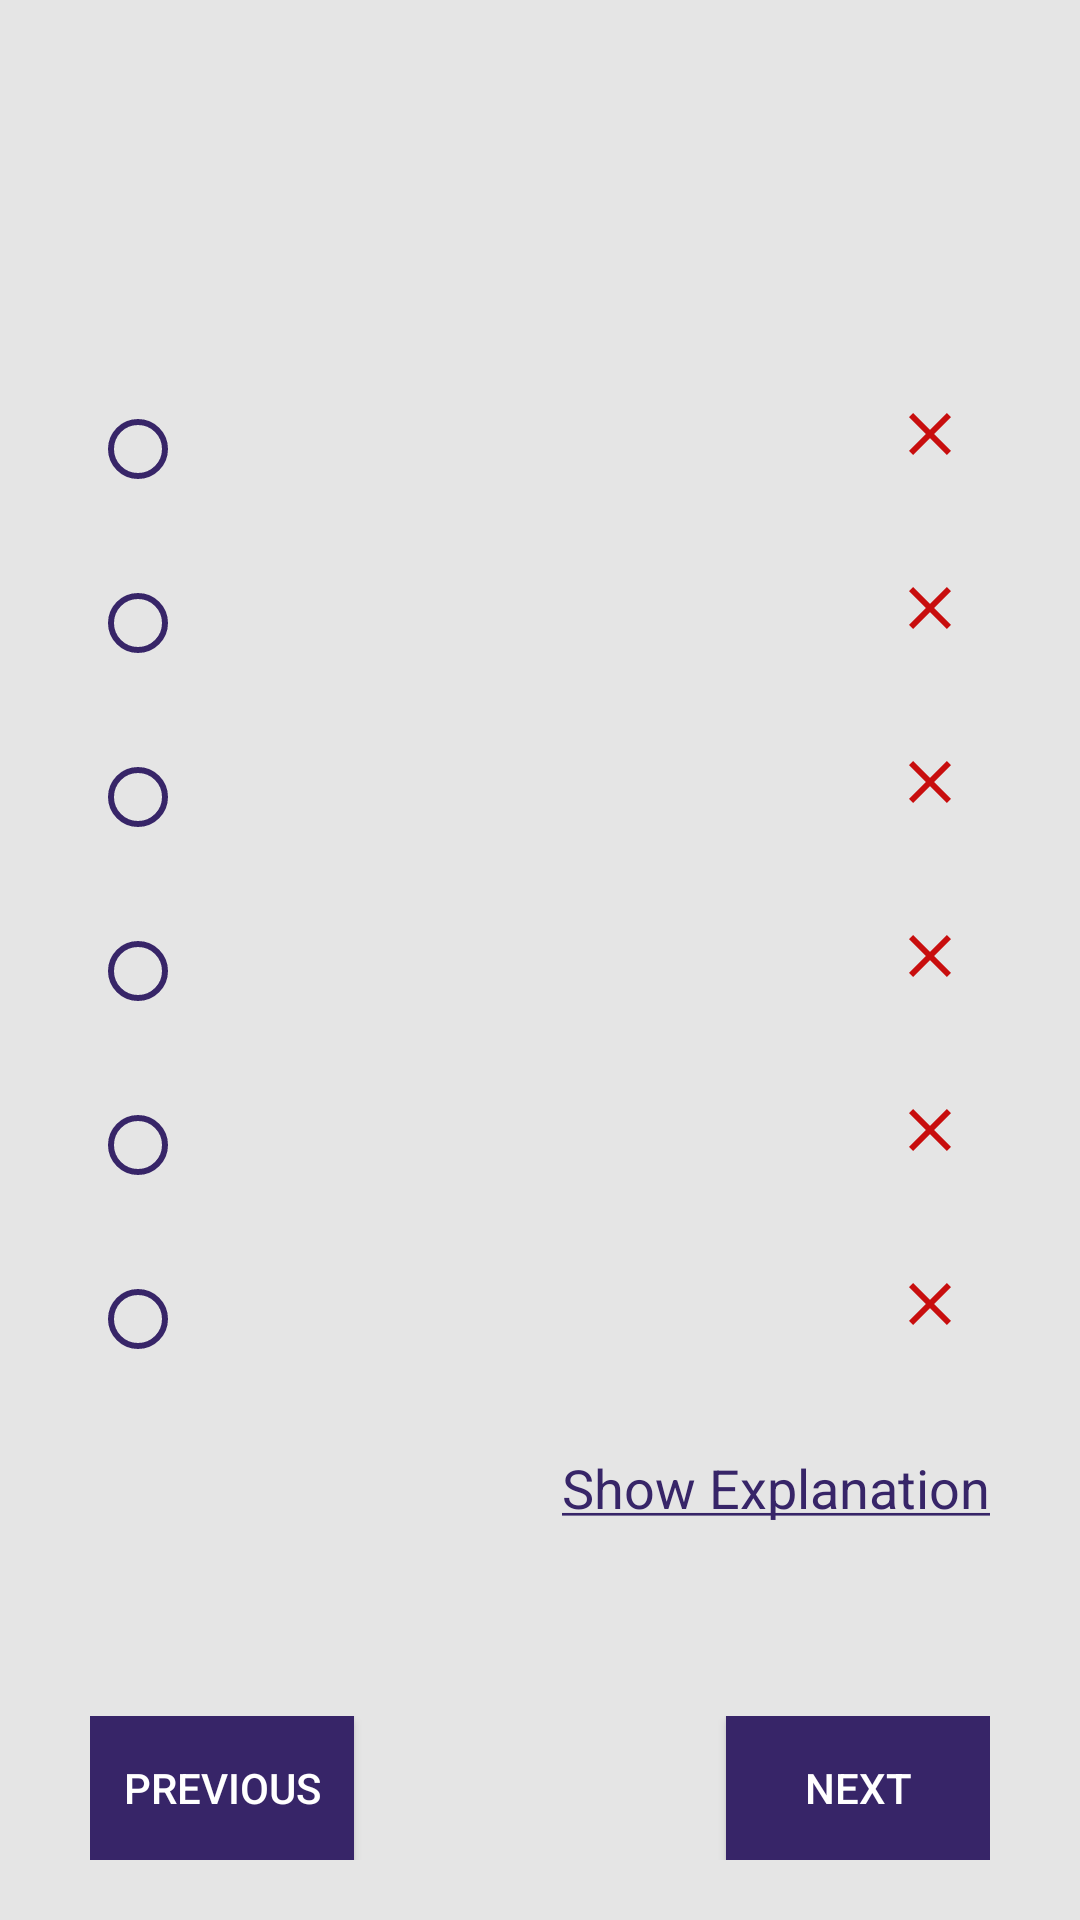

Icon bounding boxes for this 1080x1920 phone screenshot, format (x1, y1, x2, y2):
close: (909, 413, 951, 455), (909, 587, 951, 629), (909, 761, 951, 803), (909, 935, 951, 977), (909, 1109, 951, 1151), (909, 1283, 951, 1325)
